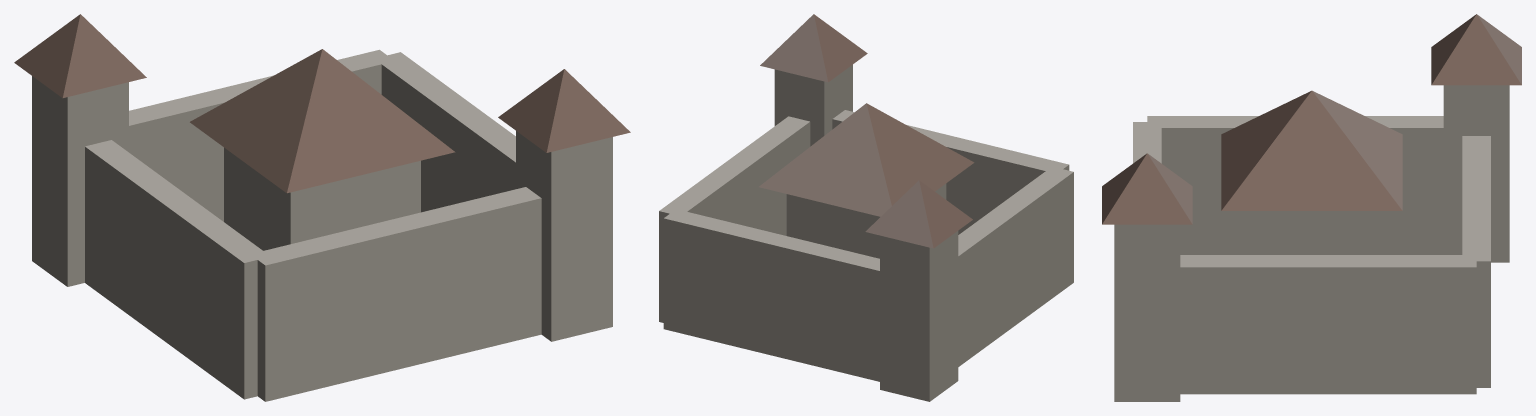
File: commandery.gltf
The picture shows the model from 3 angles, left to right: view 1: azimuth 30°, elevation 25°; view 2: azimuth 150°, elevation 25°; view 3: azimuth 270°, elevation 25°; orthographic projection. The views are drawn at different scales.
Parts seen in each view (by area): view 1: building-commandery; view 2: building-commandery; view 3: building-commandery.
Part boxes in pixels (x1,y1,x2,y2): building-commandery: (14, 14, 630, 401); building-commandery: (659, 14, 1073, 401); building-commandery: (1102, 14, 1521, 401).
Size of the model in its own units: 1.02 by 0.6296 by 1.02.
